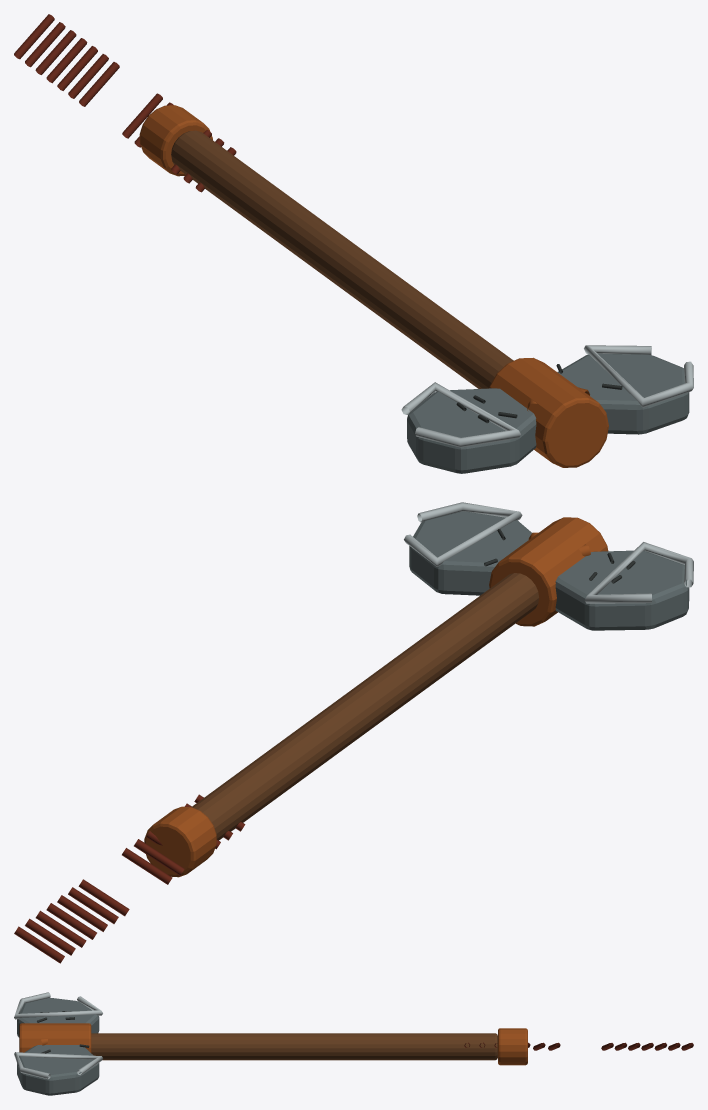
File: pelekys_axe_2h_LOD0.glb
3 views of the same model, one above another, from view 1: azimuth 30°, elevation 25°; view 2: azimuth 150°, elevation 25°; view 3: azimuth 270°, elevation 25° (orthographic). The views are drawn at different scales.
Visible parts, largest first — view 1: PelekysHaft, PelekysDoubleHead, PelekysSocket, PelekysButtCap, PelekysLeftEdge, PelekysRightEdge; view 2: PelekysHaft, PelekysDoubleHead, PelekysSocket, PelekysButtCap, PelekysRightEdge, PelekysLeftEdge; view 3: PelekysHaft, PelekysDoubleHead, PelekysSocket, PelekysButtCap, PelekysRightEdge, PelekysLeftEdge.
Boxes of the visible parts, x1,y1,x2,y2 form: PelekysHaft: (171, 130, 513, 388); PelekysDoubleHead: (407, 353, 689, 473); PelekysSocket: (489, 357, 608, 467); PelekysButtCap: (139, 105, 212, 176); PelekysLeftEdge: (401, 382, 520, 447); PelekysRightEdge: (584, 345, 693, 407); PelekysHaft: (191, 573, 538, 840); PelekysDoubleHead: (409, 511, 689, 630); PelekysSocket: (489, 517, 608, 626); PelekysButtCap: (144, 806, 216, 877); PelekysRightEdge: (404, 502, 522, 566); PelekysLeftEdge: (584, 542, 693, 603); PelekysHaft: (91, 1033, 497, 1060); PelekysDoubleHead: (17, 997, 99, 1095); PelekysSocket: (19, 1023, 91, 1052); PelekysButtCap: (498, 1028, 527, 1065); PelekysRightEdge: (14, 1052, 102, 1079); PelekysLeftEdge: (14, 992, 102, 1019).
Bounding box in the file's own units: 0.6575 × 0.156 × 2.26.
